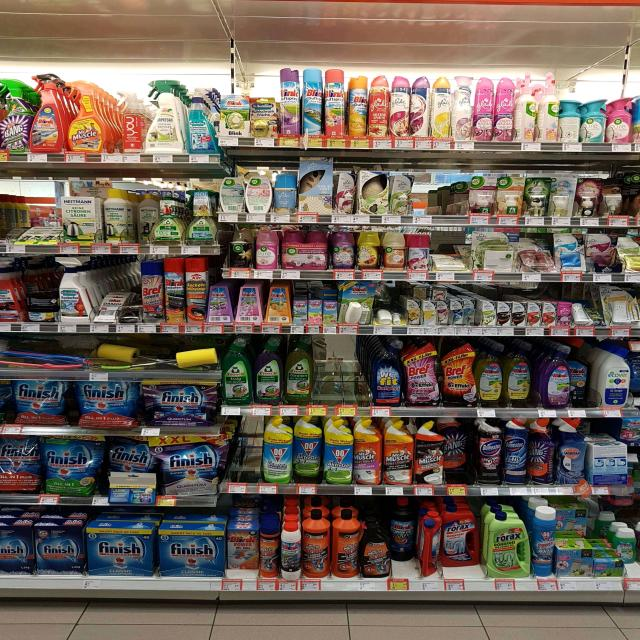empty: (299, 332, 372, 409), (399, 172, 472, 222)
